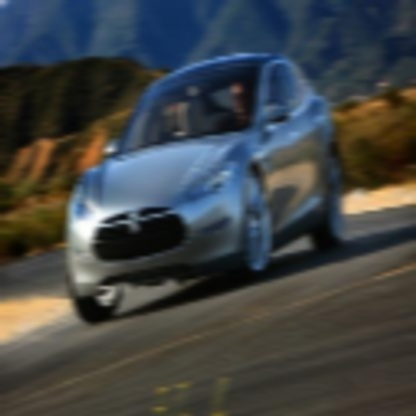Vehicle: (66, 49, 345, 327)
